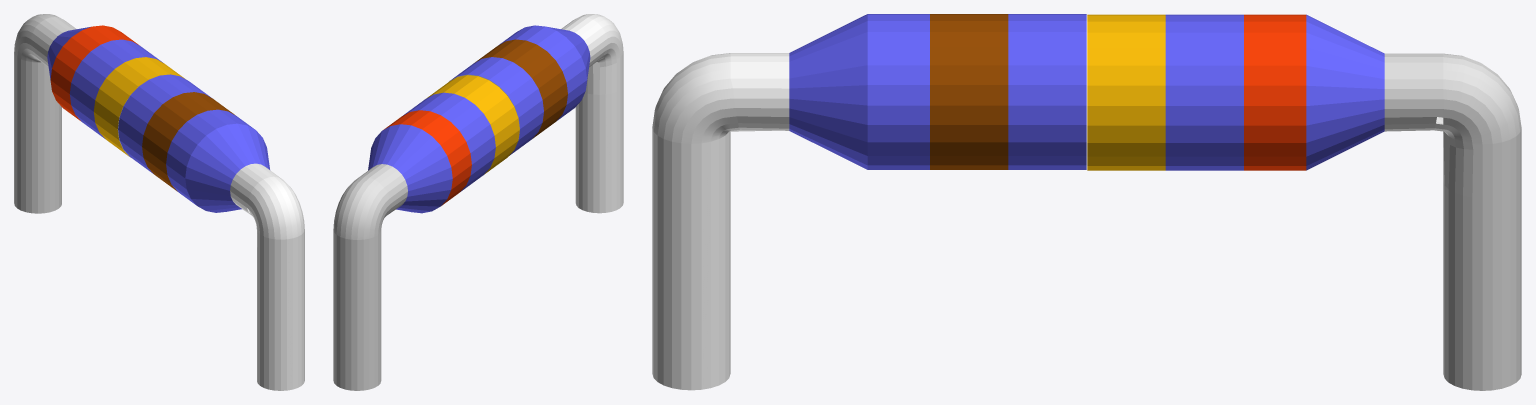
3 renders of one model, left to right at view 1: azimuth 30°, elevation 25°; view 2: azimuth 150°, elevation 25°; view 3: azimuth 270°, elevation 25°, orthographic. The views are drawn at different scales.
Visible parts, largest first — view 1: 1mm90degree_join#5_001, 1mm90degree_join#6_001; view 2: 1mm90degree_join#6_001, 1mm90degree_join#5_001; view 3: 1mm90degree_join#6_001, 1mm90degree_join#5_001.
Part boxes in pixels (<box>): 1mm90degree_join#5_001: <box>118,74,304,390</box>; 1mm90degree_join#6_001: <box>14,14,184,213</box>; 1mm90degree_join#6_001: <box>333,75,519,390</box>; 1mm90degree_join#5_001: <box>449,14,623,213</box>; 1mm90degree_join#6_001: <box>1087,14,1521,390</box>; 1mm90degree_join#5_001: <box>652,14,1086,390</box>.
Size of the model in its own units: 2 by 4.98 by 11.11.
